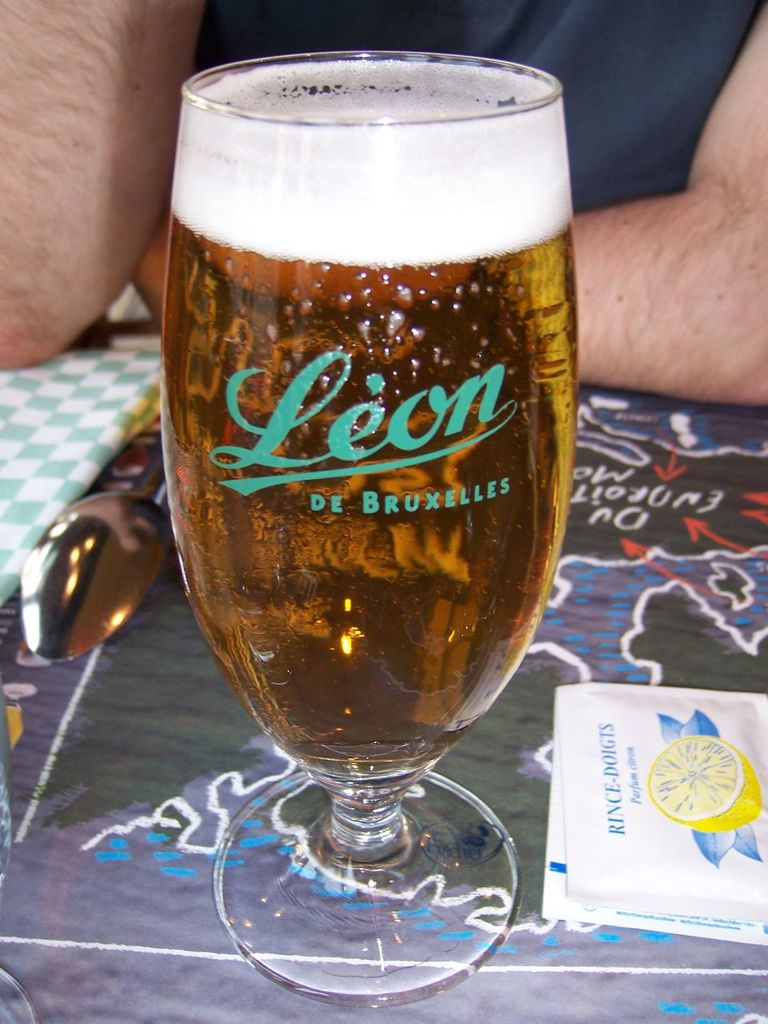Beer: (161, 61, 575, 783)
